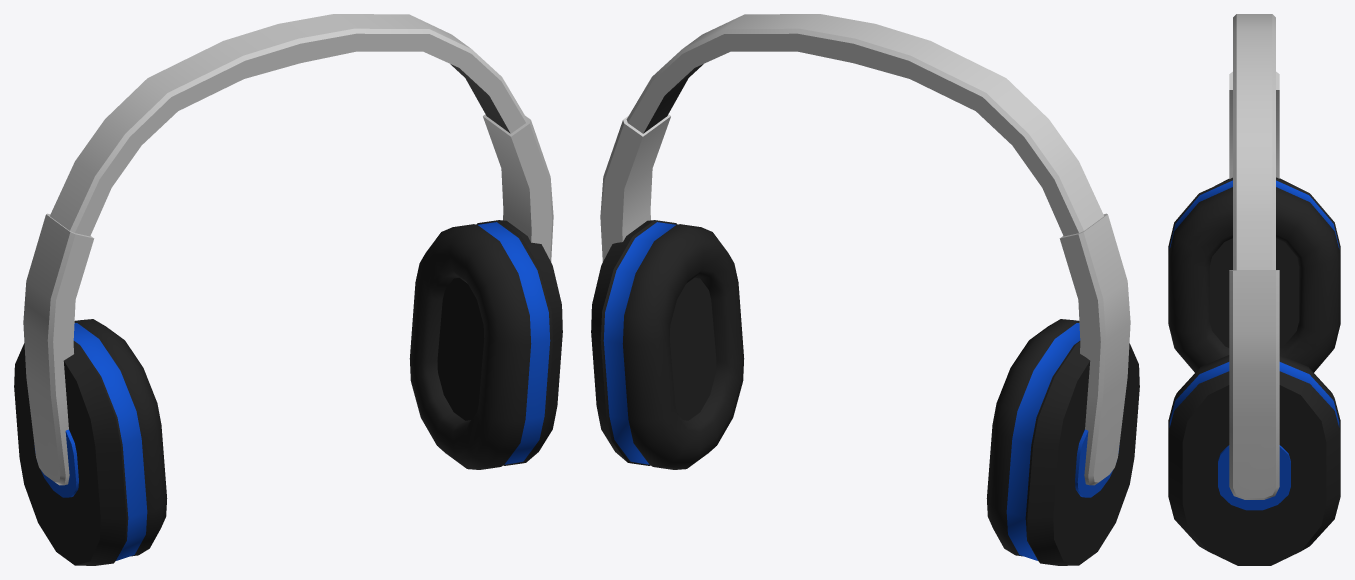
The model's file is Headset_2.obj.
3 renders of one model, left to right at view 1: azimuth 30°, elevation 25°; view 2: azimuth 150°, elevation 25°; view 3: azimuth 270°, elevation 25°, orthographic. The views are drawn at different scales.
Visible parts, largest first — view 1: Headset_2; view 2: Headset_2; view 3: Headset_2.
Boxes of the visible parts, x1,y1,x2,y2 form: Headset_2: [14, 14, 562, 565]; Headset_2: [591, 14, 1139, 565]; Headset_2: [1168, 14, 1340, 565].
Bounding box in the file's own units: 0.3021 × 0.2719 × 0.1005.
